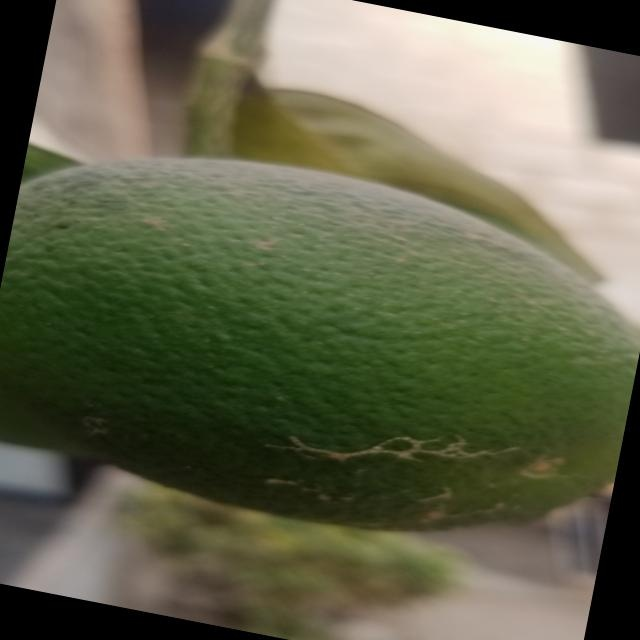agrume: (0, 118, 640, 575)
